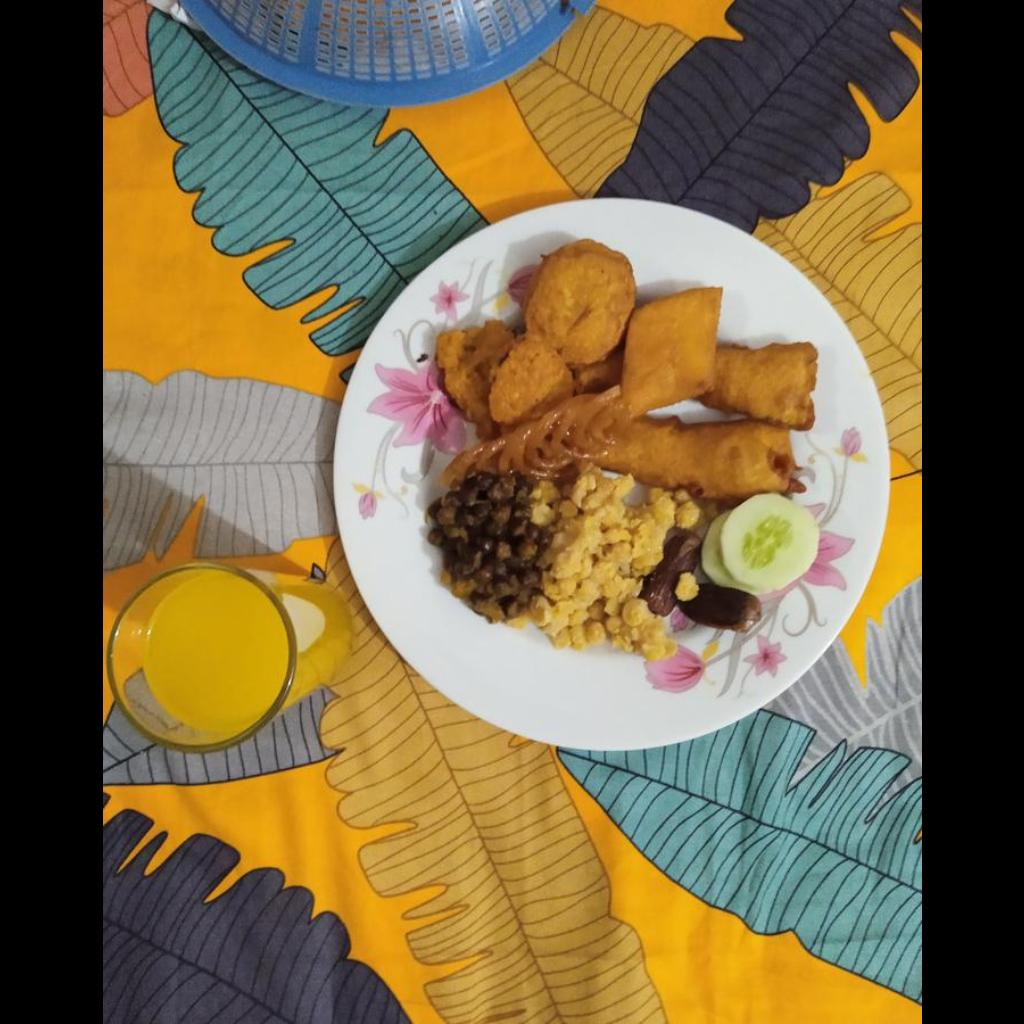beguni: (619, 344, 816, 488)
chola: (427, 481, 541, 611)
chop-alu: (513, 246, 627, 363)
cucumber: (710, 502, 814, 592)
daal: (473, 469, 695, 660)
dates: (639, 528, 760, 630)
jilapi: (476, 388, 628, 474)
peyaju: (430, 326, 572, 430)
sweets: (628, 292, 719, 416)
